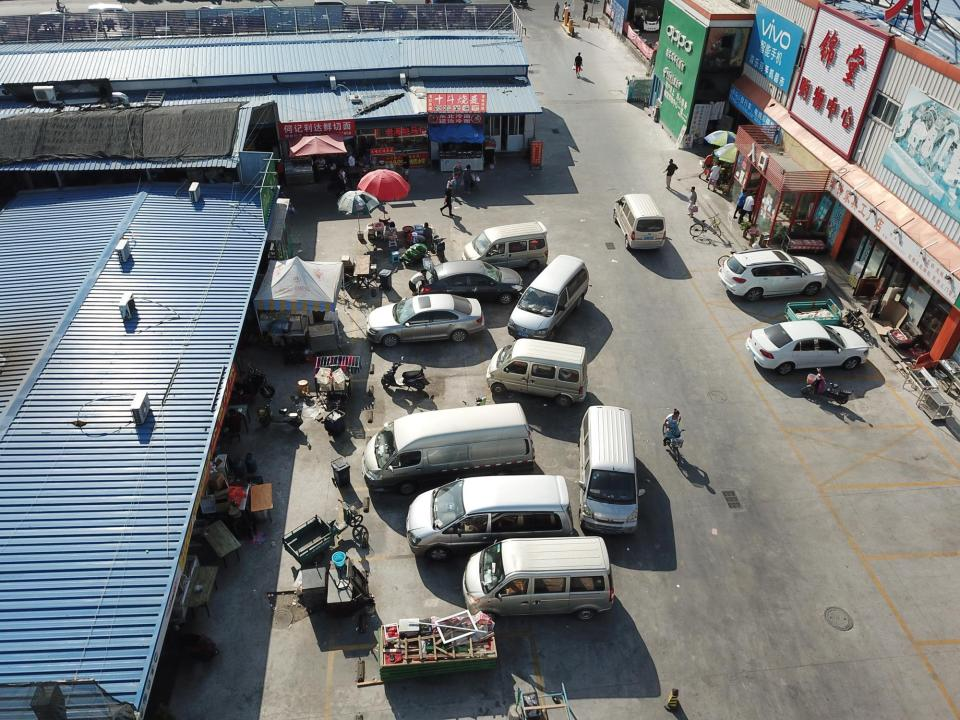car: (744, 318, 871, 376), (364, 294, 486, 346), (717, 250, 831, 301), (410, 259, 526, 305)
van: (363, 404, 537, 493), (406, 473, 574, 562), (458, 538, 614, 624), (574, 401, 642, 534), (504, 252, 591, 342), (486, 338, 587, 407), (462, 220, 550, 270), (608, 192, 666, 253)
